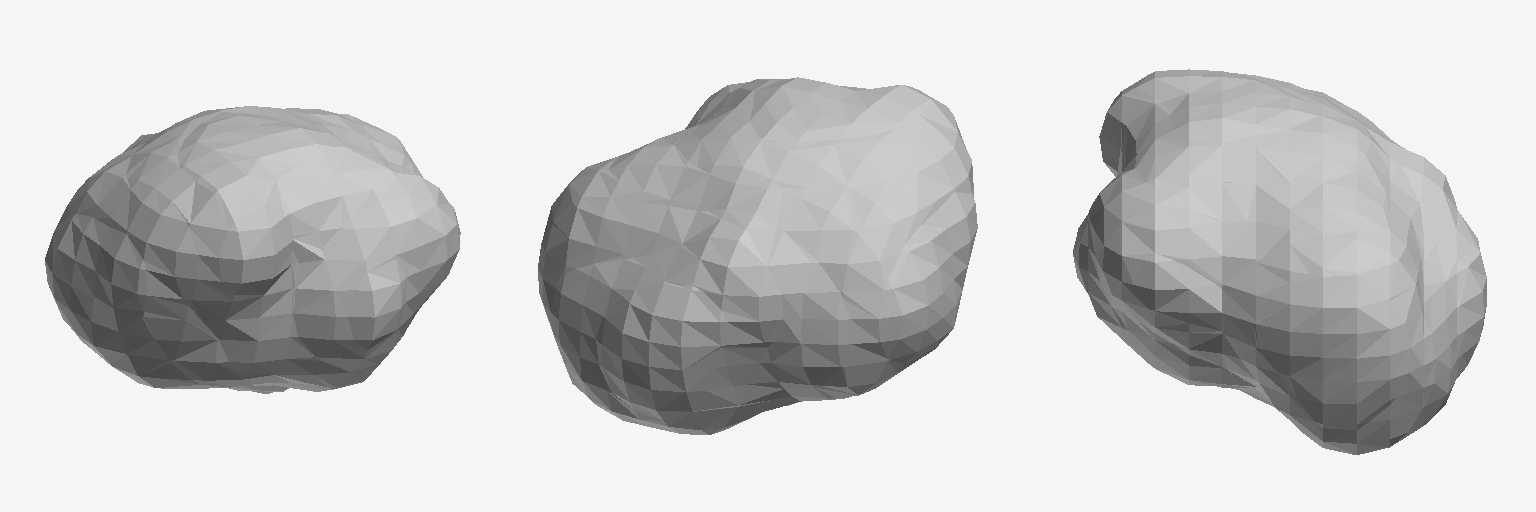
The model's file is 1mgp_cms.obj.
The picture shows the model from 3 angles: view 1: azimuth 30°, elevation 25°; view 2: azimuth 150°, elevation 25°; view 3: azimuth 270°, elevation 25°; orthographic projection.
Size of the model in its own units: 62.29 by 47.76 by 61.43.